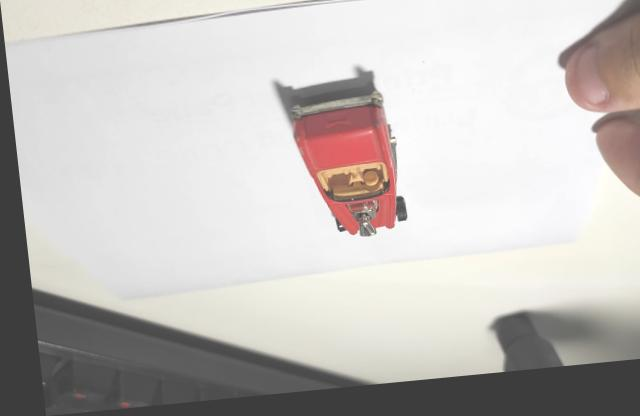03_V8: (288, 98, 403, 246)
